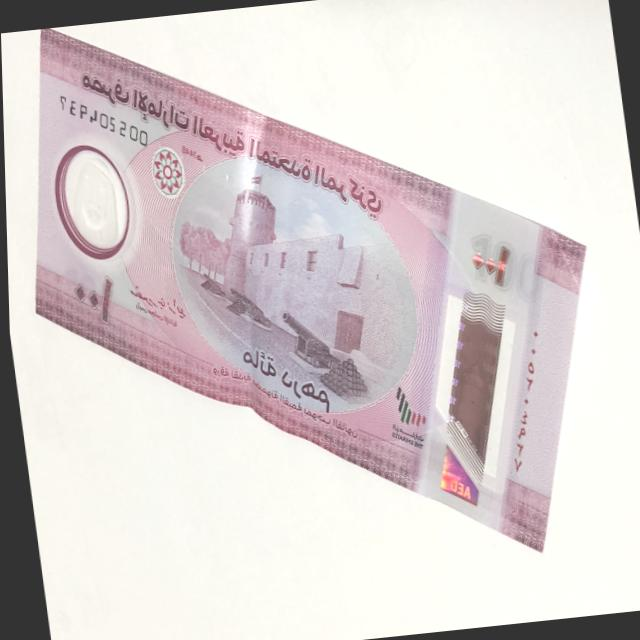100_AED: (29, 27, 592, 560)
